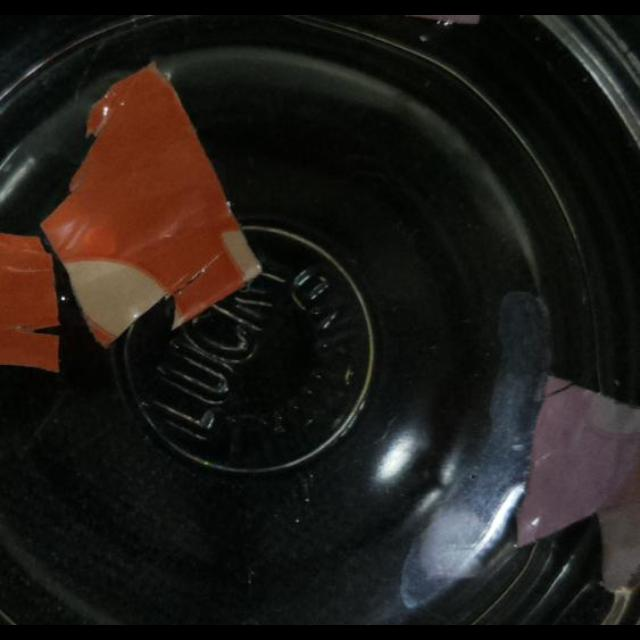Fragment: (42, 65, 264, 342), (518, 377, 640, 591), (1, 237, 62, 376)
